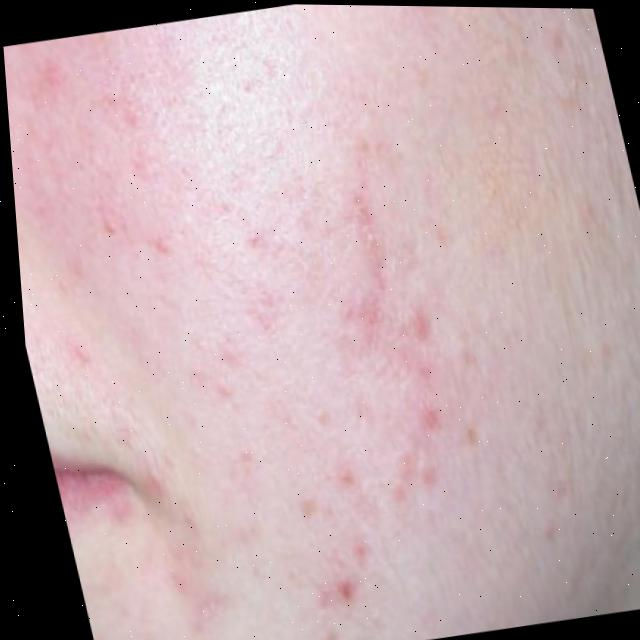Acne: (122, 78, 594, 629)
